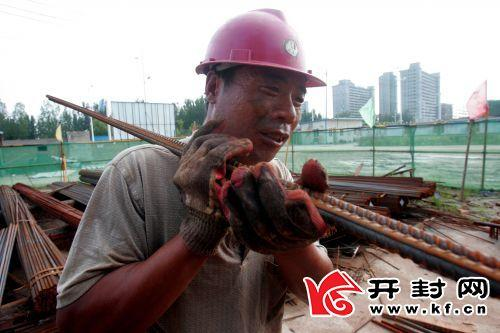helmet: (195, 6, 331, 82)
